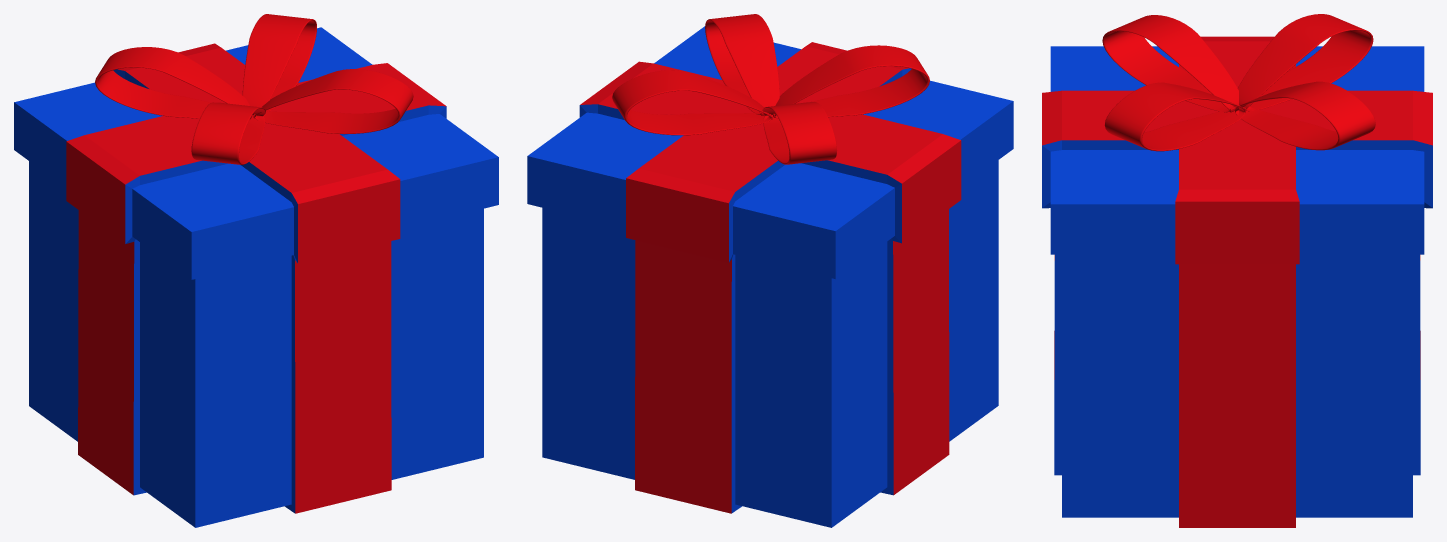
File: GiftBox.fbx
3 views of the same model, side by side, from view 1: azimuth 30°, elevation 25°; view 2: azimuth 150°, elevation 25°; view 3: azimuth 270°, elevation 25° (orthographic). The views are drawn at different scales.
Visible parts, largest first — view 1: Cube, Cube.001, Cube.003, BézierCircle.003, BézierCircle.001, BézierCircle.002, BézierCircle, Cube.002; view 2: Cube, Cube.001, Cube.003, BézierCircle, BézierCircle.002, BézierCircle.001, BézierCircle.003, Cube.002; view 3: Cube, Cube.002, Cube.001, BézierCircle.003, BézierCircle, BézierCircle.001, BézierCircle.002, Cube.003.
Boxes of the visible parts, box(x1,y1,x2,y2) form: Cube: box(14, 27, 498, 527); Cube.001: box(118, 43, 400, 513); Cube.003: box(66, 116, 201, 495); BézierCircle.003: box(95, 47, 252, 119); BézierCircle.001: box(253, 69, 413, 134); BézierCircle.002: box(242, 14, 316, 113); BézierCircle: box(191, 102, 265, 164); Cube.002: box(294, 63, 446, 113); Cube: box(527, 26, 1013, 527); Cube.001: box(626, 42, 908, 513); Cube.003: box(828, 114, 961, 494); BézierCircle: box(773, 45, 929, 118); BézierCircle.002: box(612, 70, 772, 135); BézierCircle.001: box(705, 14, 779, 115); BézierCircle.003: box(762, 102, 836, 164); Cube.002: box(580, 61, 730, 114); Cube: box(1042, 46, 1432, 517); Cube.002: box(1175, 140, 1299, 527); Cube.001: box(1042, 90, 1432, 379); BézierCircle.003: box(1237, 14, 1373, 111); BézierCircle: box(1102, 15, 1238, 112); BézierCircle.001: box(1104, 82, 1245, 151); BézierCircle.002: box(1235, 81, 1375, 150); Cube.003: box(1179, 36, 1295, 87).
Size of the model in its own units: 223 by 247 by 223.
